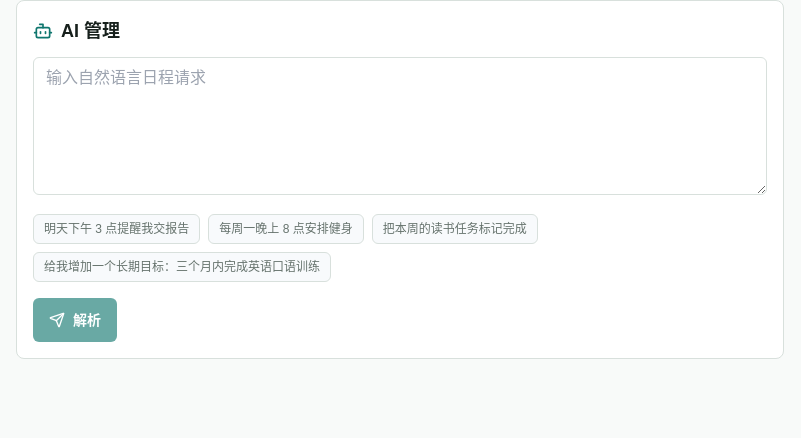
Test case: AiWorkbench › shows a fallback error when AI parsing returns non-JSON
Type "明天提醒我交报告" into the text box with placeholder "输入自然语言日程请求".
click(400, 126); type("明天提醒我交报告")  # box [33,57,767,195]
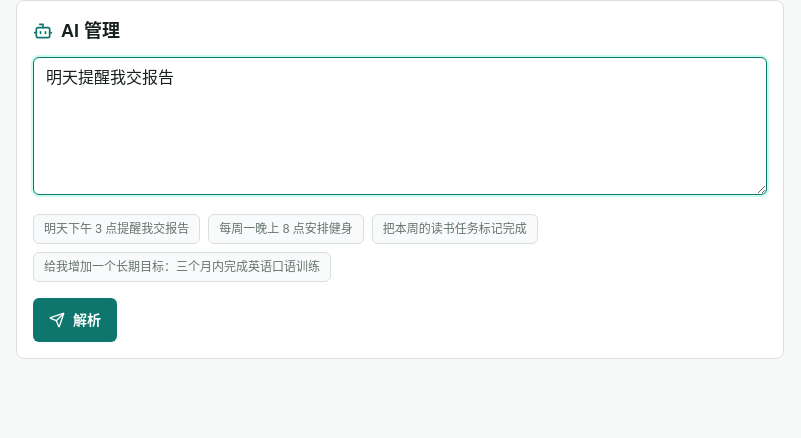
Click the button "解析".
click(75, 320)  # box [33,298,117,342]
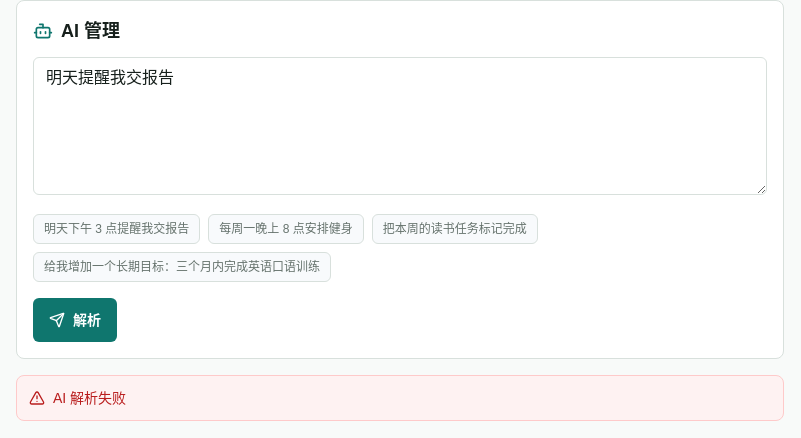
expect the text "AI 解析失败" is shown: met, box [53,388,126,408]
